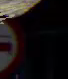No overtake: (0, 14, 26, 73)
